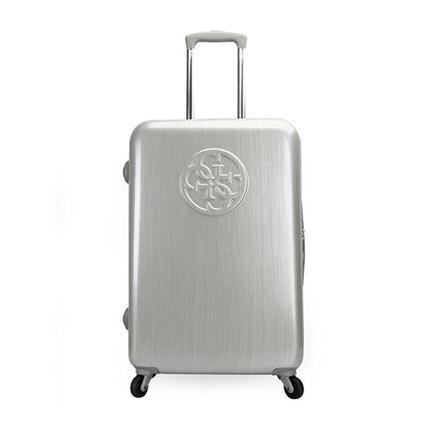suitcase: (118, 29, 307, 402)
